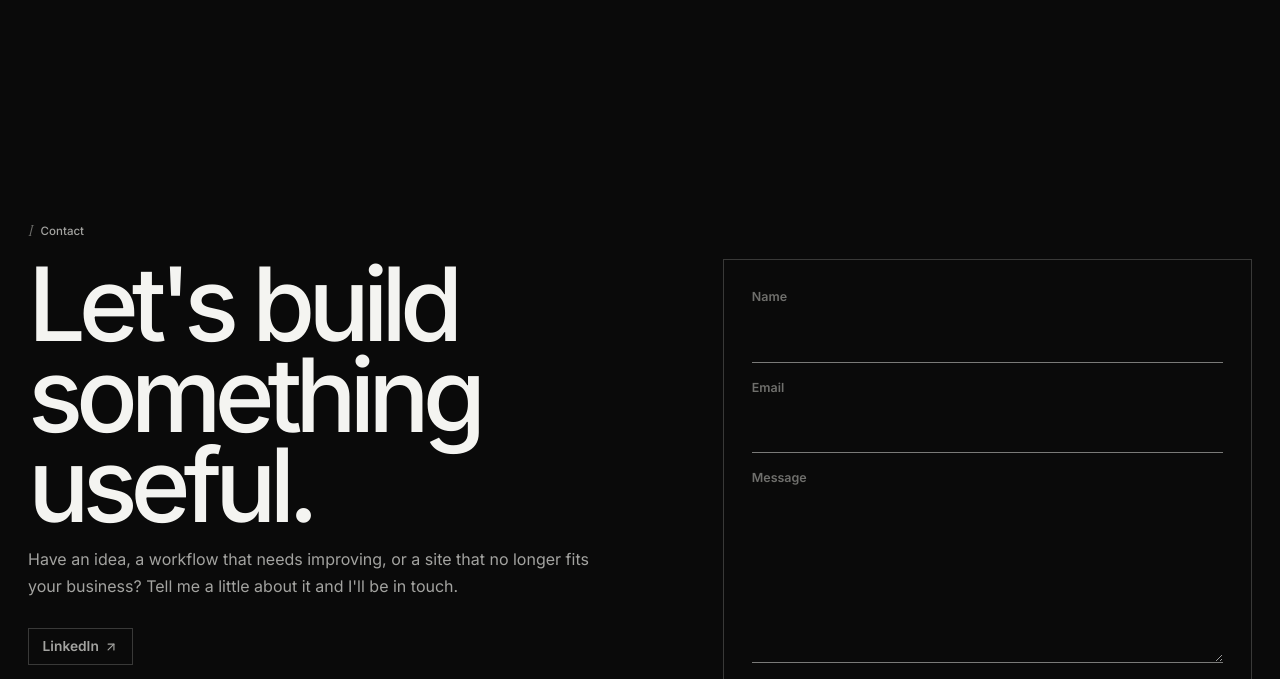
it: Contact.svelte › shows confirmation and clears the form after a successful submission
Type "Ada Lovelace" into the field labelled "Name" at (987, 338), box [752,314,1223,363]
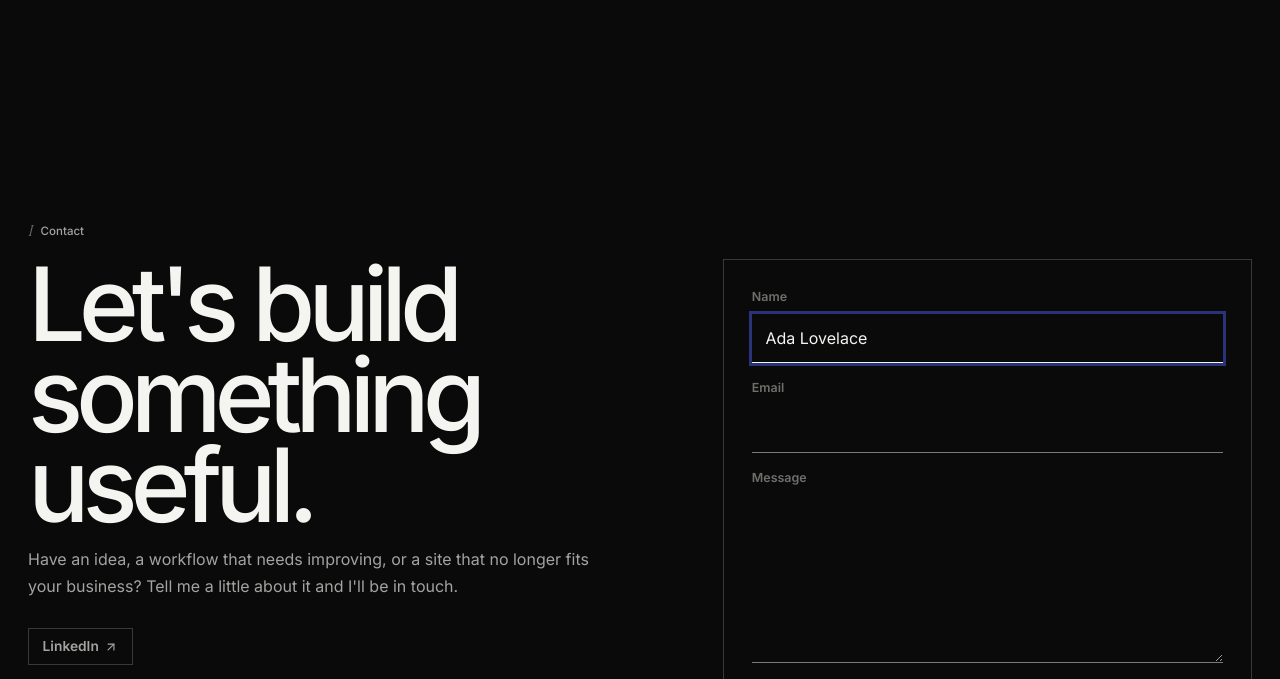
Type "ada@example.com" into the field labelled "Email" at (987, 428), box [752,404,1223,453]
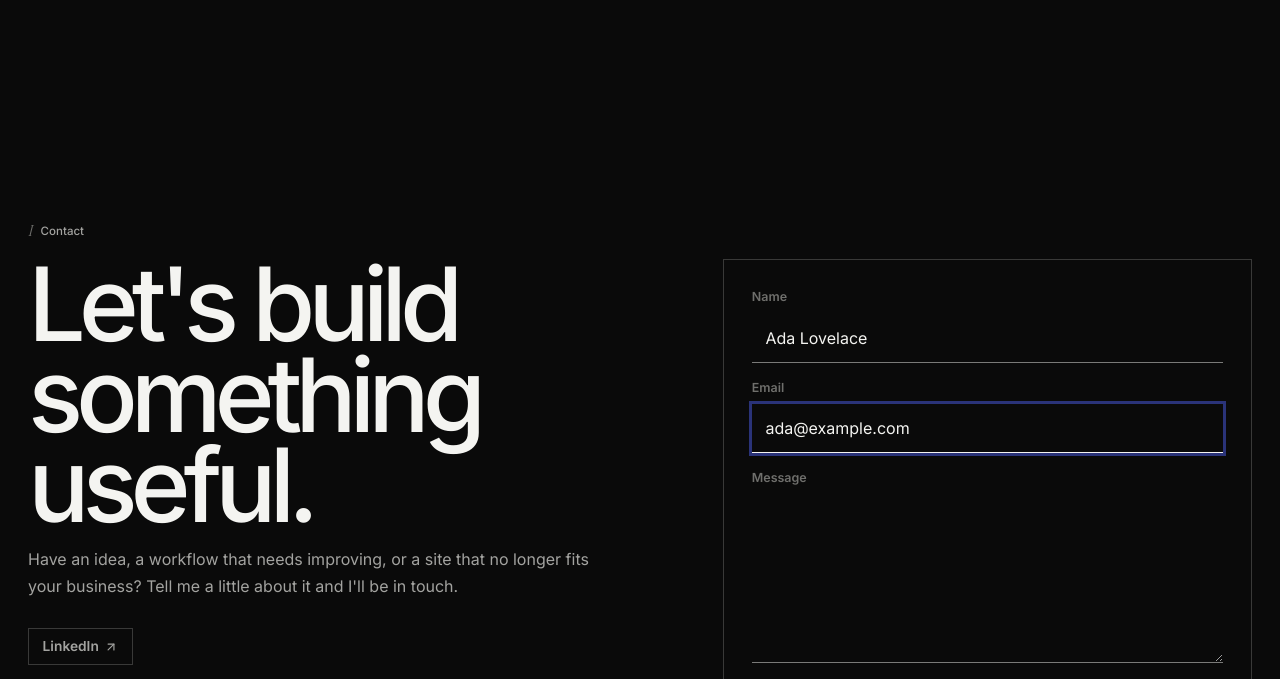
Type "I would like to discuss a new website project." into the text box labelled "Message" at (987, 578), box [752,494,1223,663]
(page scrolled)
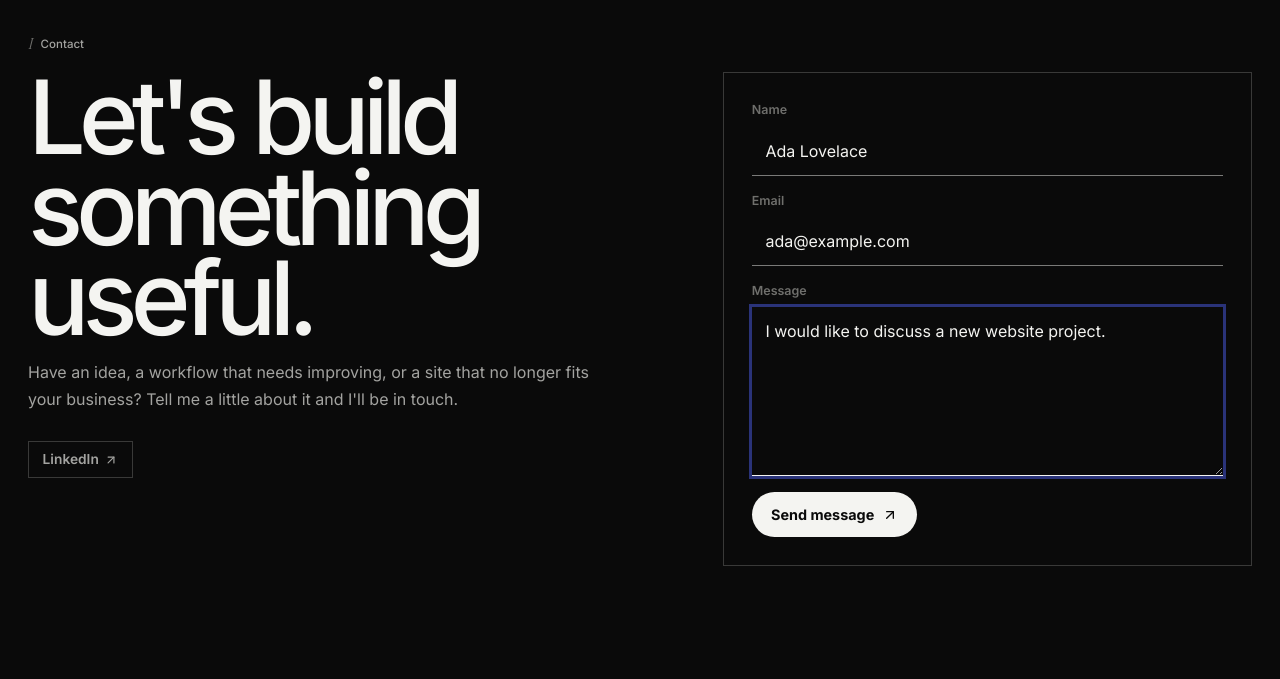
Click the button "Send message" at (835, 515), box [752,492,918,537]
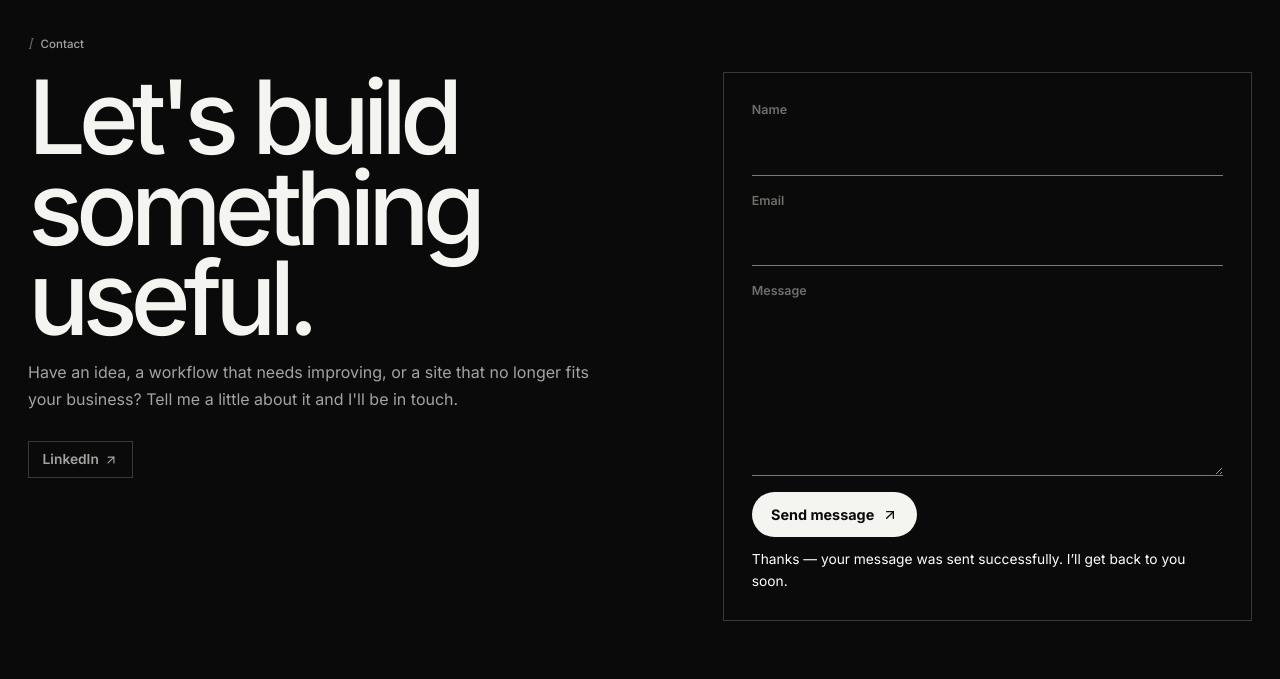
Expected: the text "message was sent successfully" is shown, [752,551,1185,589]
Expected: the field labelled "Name" is empty, [752,127,1223,176]
